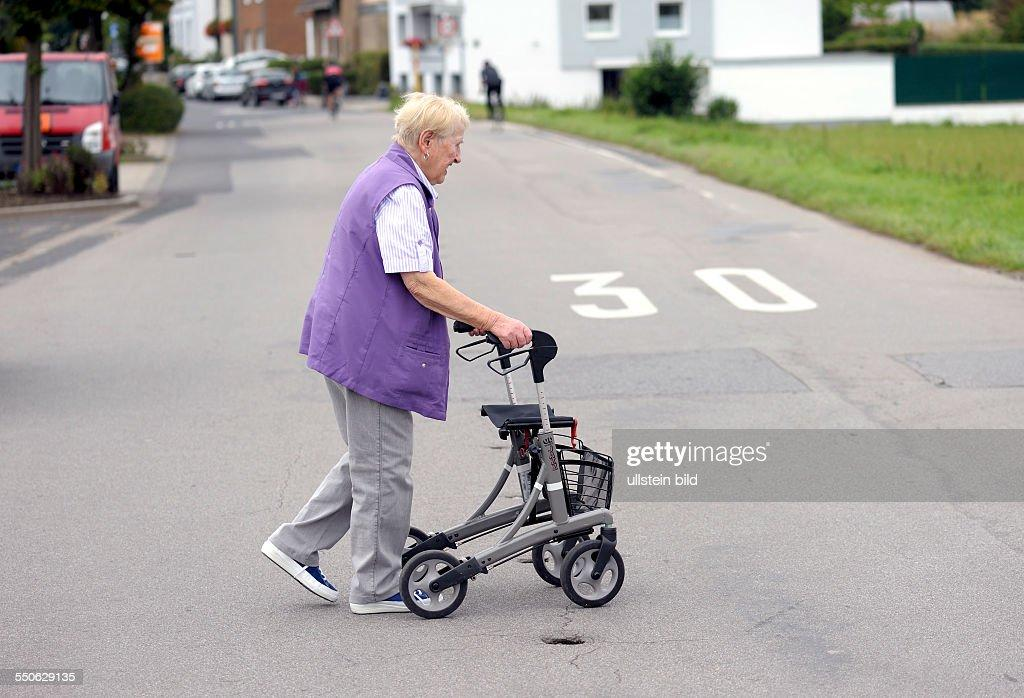walking_frame: (261, 93, 626, 619)
